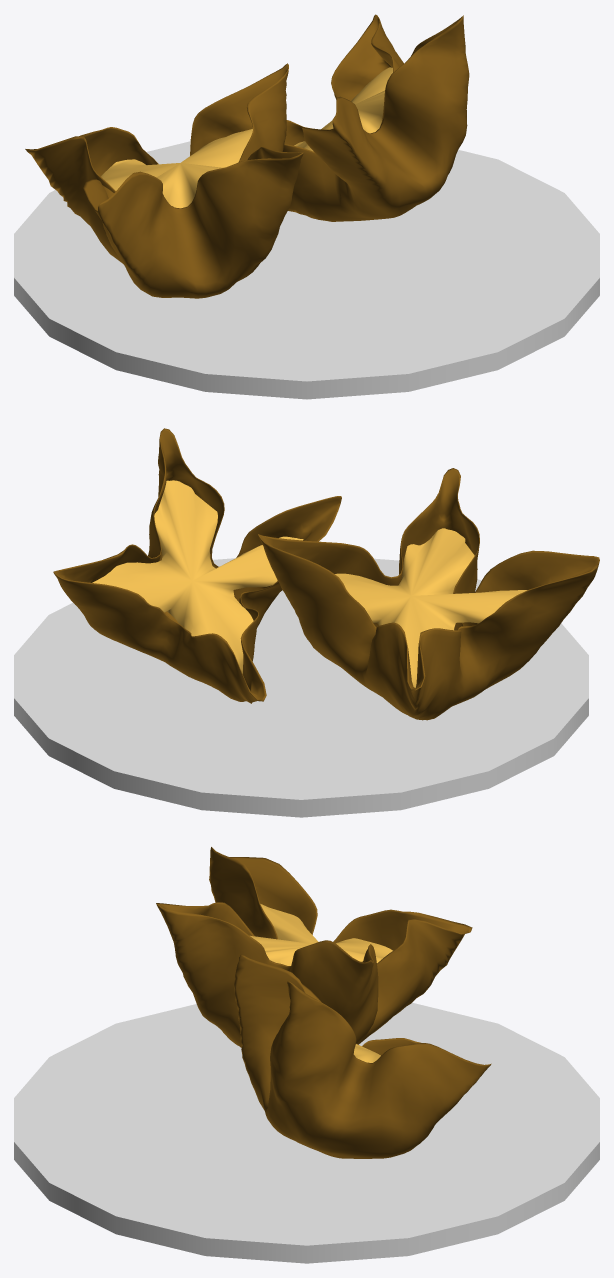
The model's file is newbatagor.FBX.
The picture shows the model from 3 angles, top to bottom: view 1: azimuth 30°, elevation 25°; view 2: azimuth 150°, elevation 25°; view 3: azimuth 270°, elevation 25°; orthographic projection.
Parts seen in each view (by area): view 1: Cylinder001, Box002, Box003, Shape001, Shape002; view 2: Cylinder001, Box002, Box003, Shape002, Shape001; view 3: Cylinder001, Box003, Box002, Shape001.
Part boxes in pixels (x1,y1,x2,y2): Cylinder001: (14,141,599,399); Box002: (25,63,303,298); Box003: (282,14,469,221); Shape001: (101,129,252,208); Shape002: (294,67,392,151); Cylinder001: (14,558,588,817); Box002: (257,468,599,720); Box003: (53,428,341,703); Shape002: (92,480,303,673); Shape001: (335,528,527,687); Cylinder001: (14,1002,599,1263); Box003: (234,954,491,1158); Box002: (156,847,472,1047); Shape001: (250,904,392,965).
Bounding box in the file's own units: 39.13 × 16.59 × 38.54.
